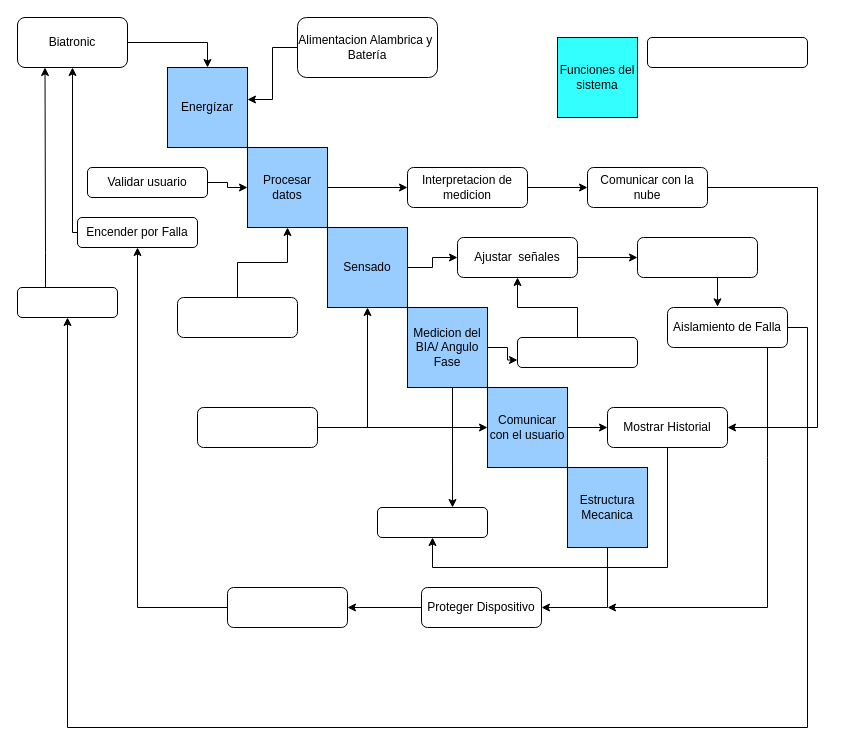
Some shapes in this 843 by 753 pixel diagram are drawn without their labels. The shapes that lost their labels are listed below. From the top down, each one's centre as x and y in pixels, then its label:
At point (727, 52): "Datos/variables entre funciones".
At point (697, 257): "Gestionar Fallas".
At point (67, 302): "Reiniciar".
At point (237, 317): "Generar Cuentas usuario".
At point (577, 352): "Opcion de Datos".
At point (257, 427): "Mostrar Instrucciones".
At point (432, 522): "Pantalla tactil".
At point (287, 607): "Bloqueo".
